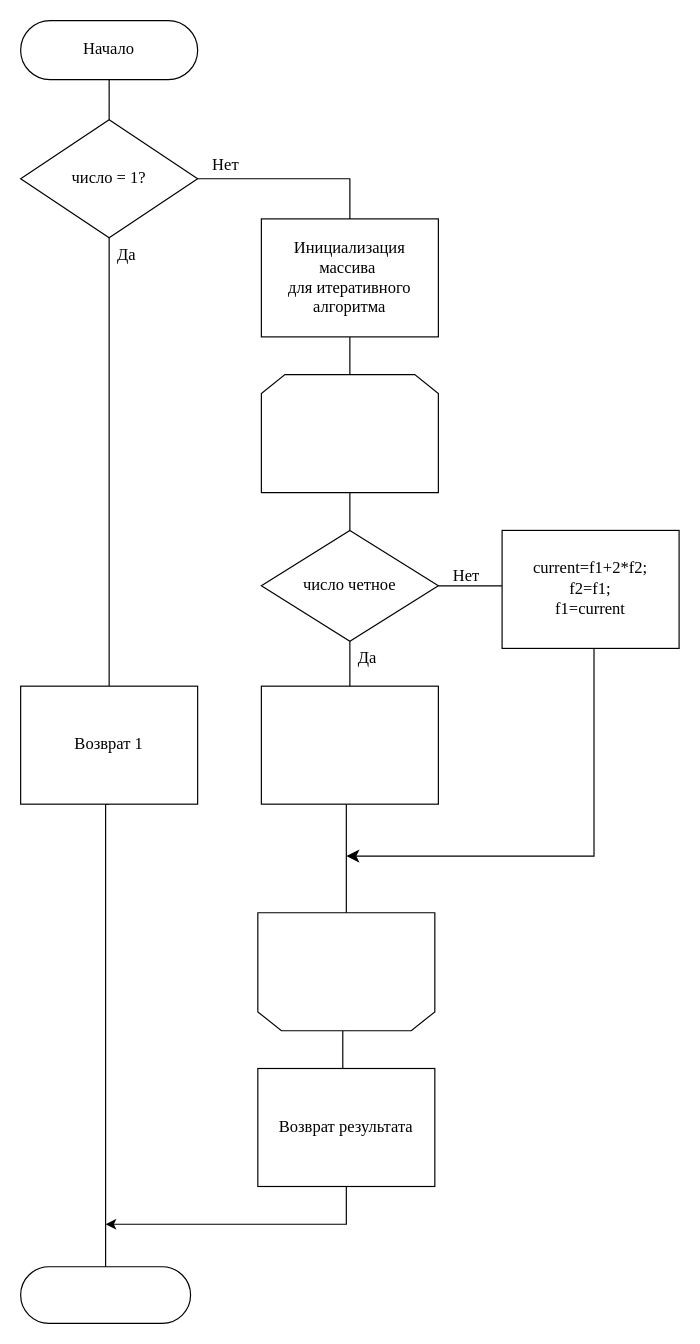
This 700x1344 diagram has some shape labels left out. Each missing label, with the centre of its shape:
"i+3" goes at (349,744).
"Конец" goes at (105,1294).
"цикл от 3 до n" goes at (346,971).
"цикл от 3 до n, i > n" goes at (349,433).
